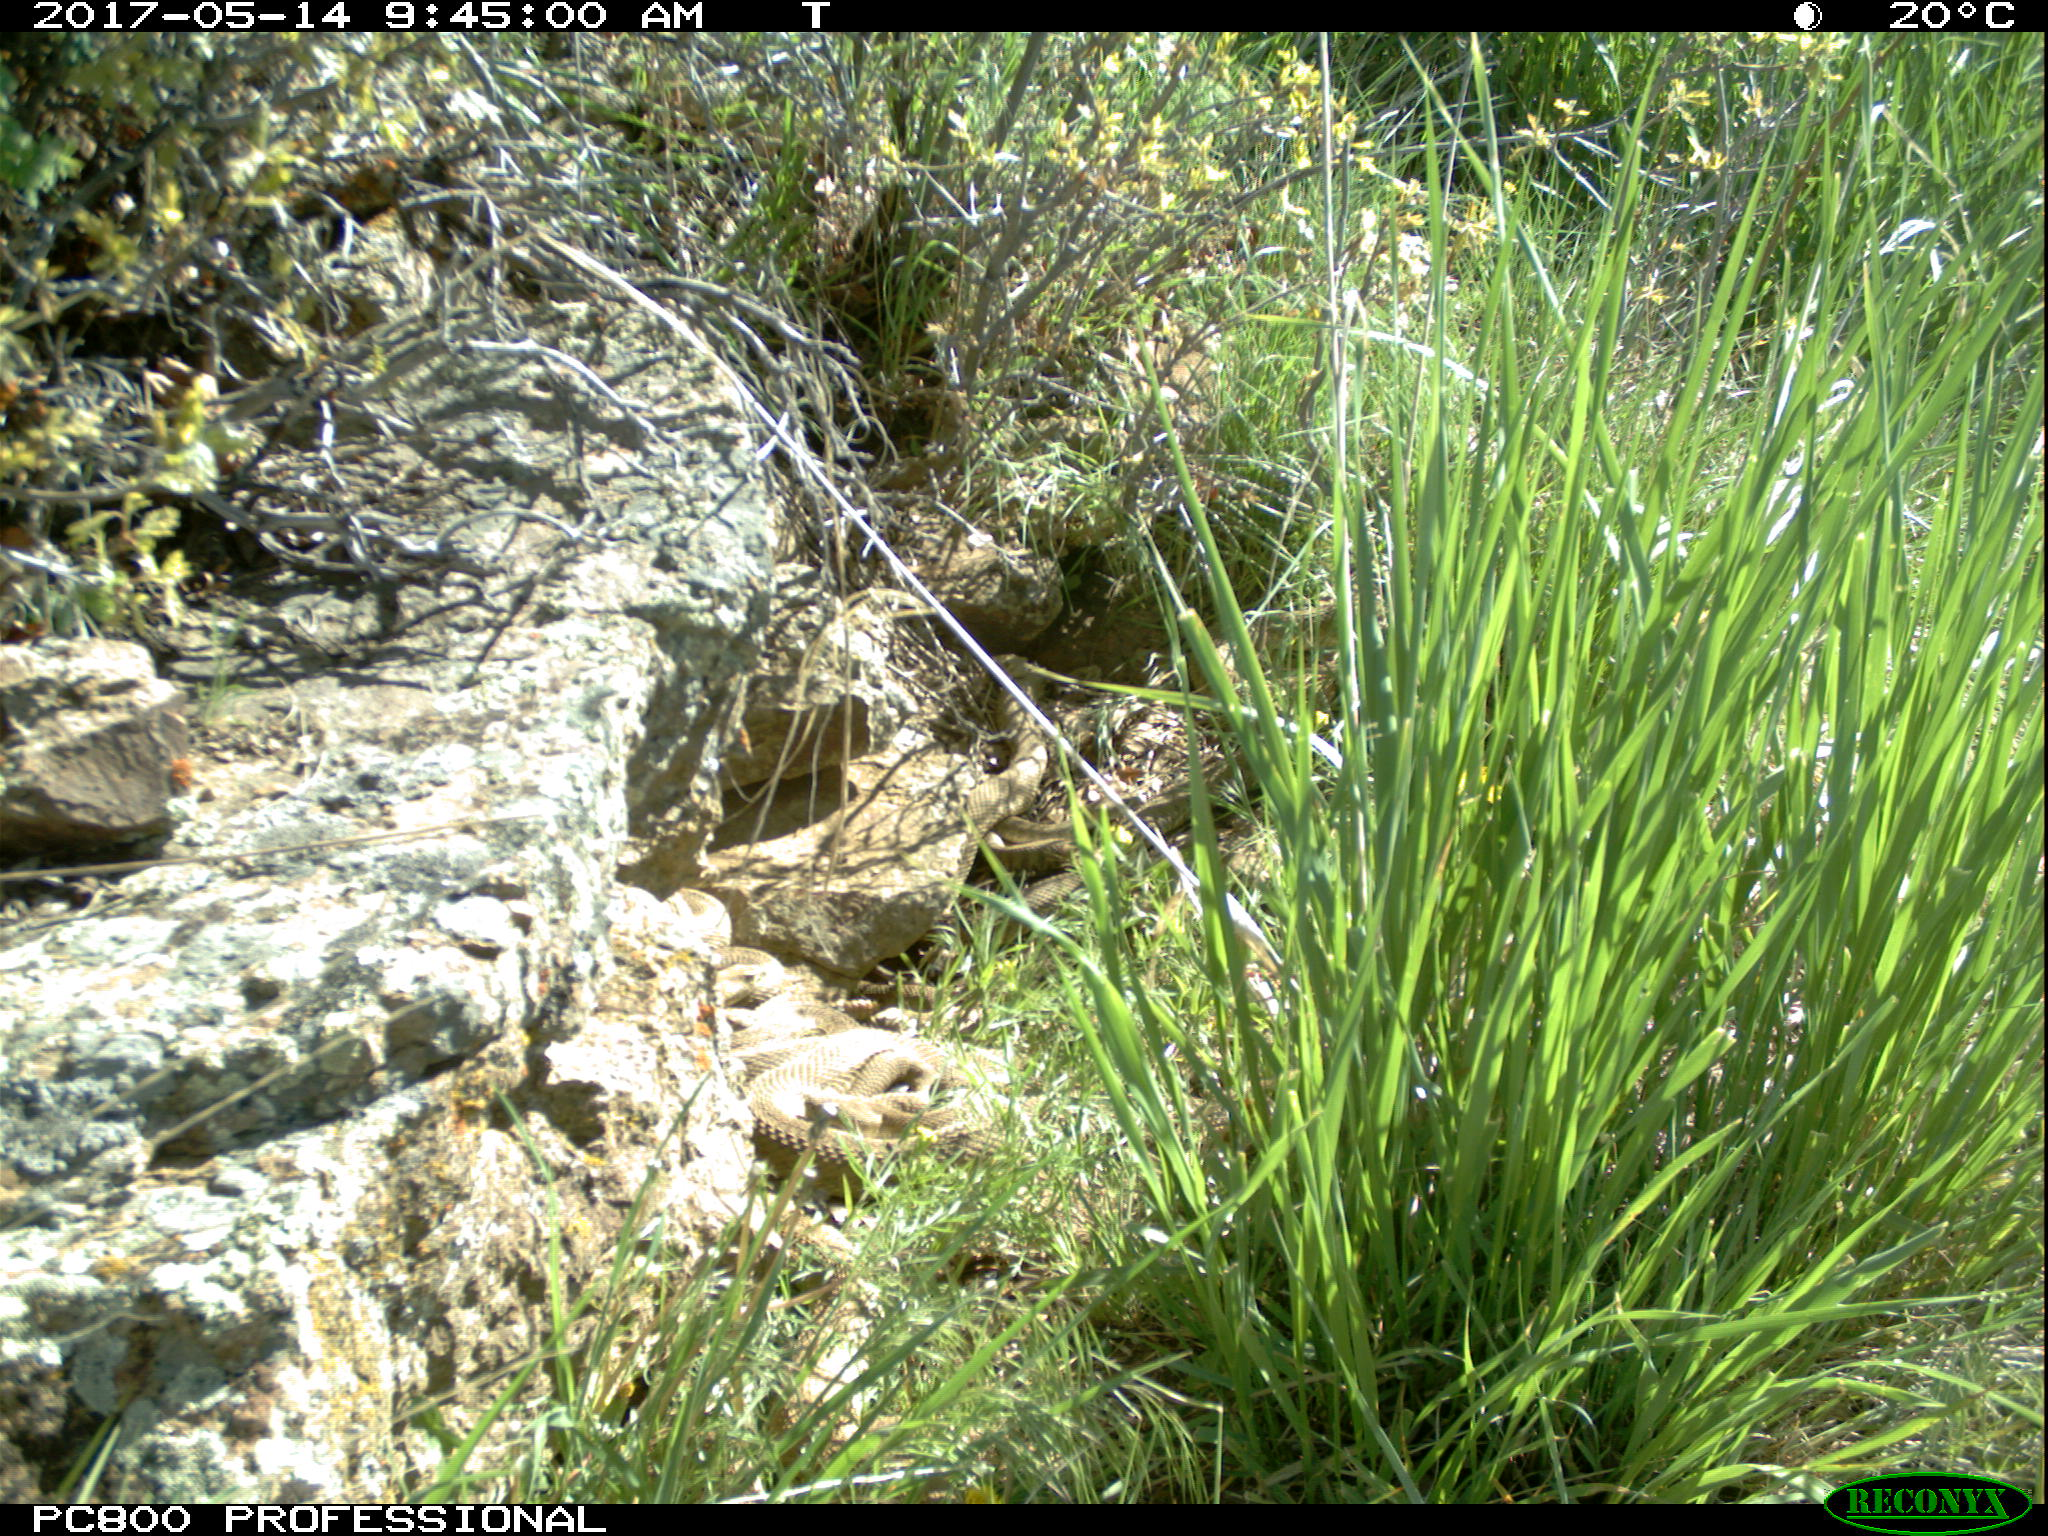snake: (740, 1016, 1027, 1150), (971, 666, 1056, 829), (701, 939, 818, 1054)
